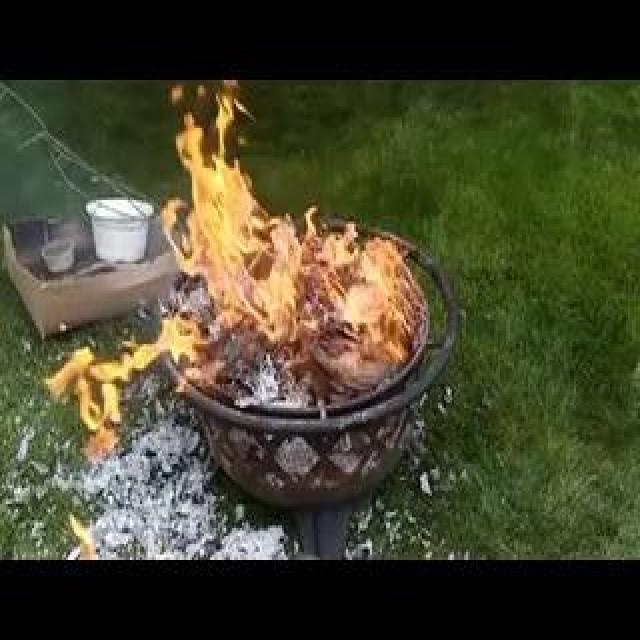Fire: (282, 252, 308, 344)
